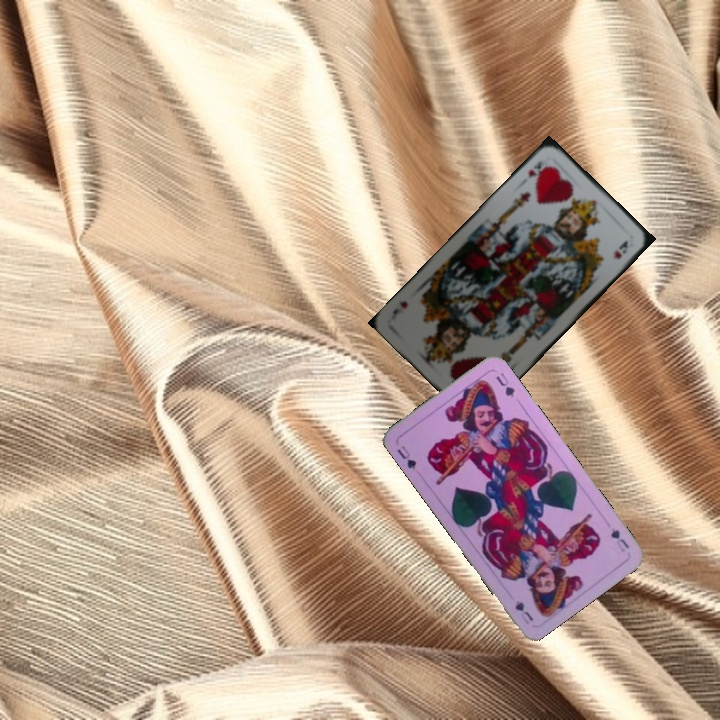GU: (393, 441, 419, 472), (607, 524, 632, 555)
HK: (523, 156, 550, 183)
